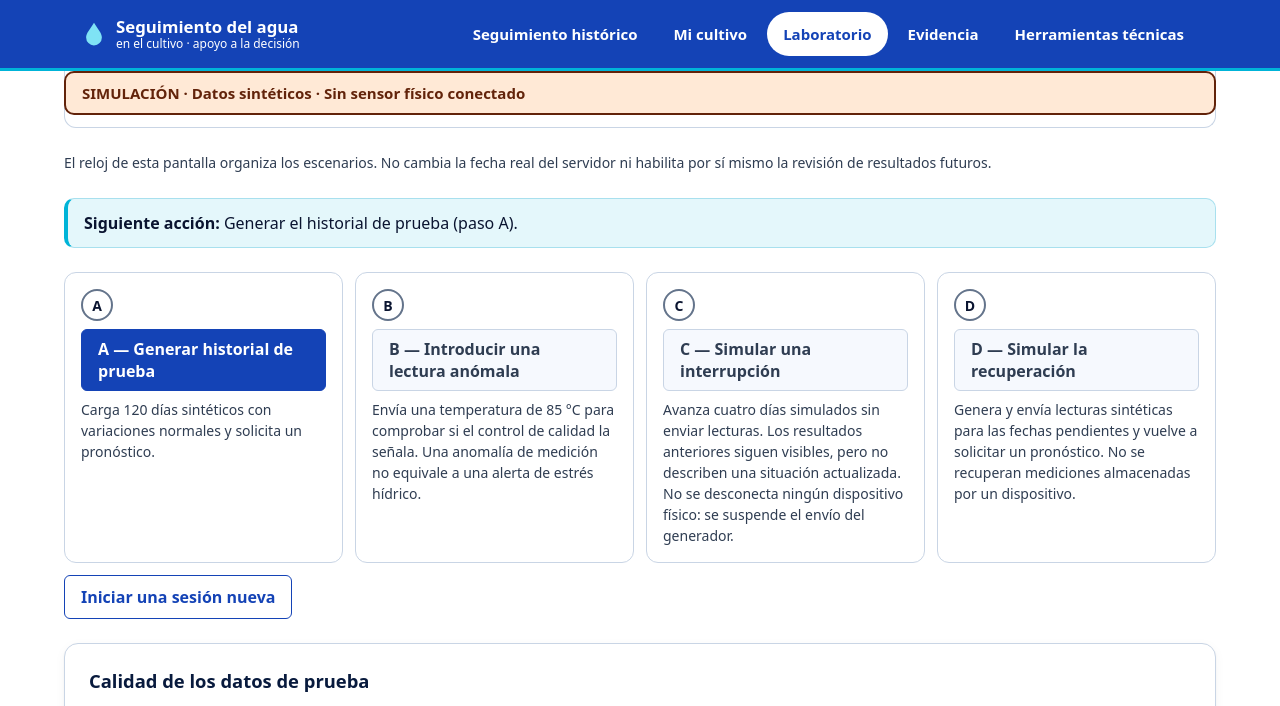
Test: App — navegación por hash (Entrega 2) › offers the Laboratorio sensor in Herramientas with one click when the user comes back by the menu
(page scrolled)
Click the button "A — Generar historial de prueba": click(204, 360) x1=81 y1=329 x2=326 y2=391
(page scrolled)
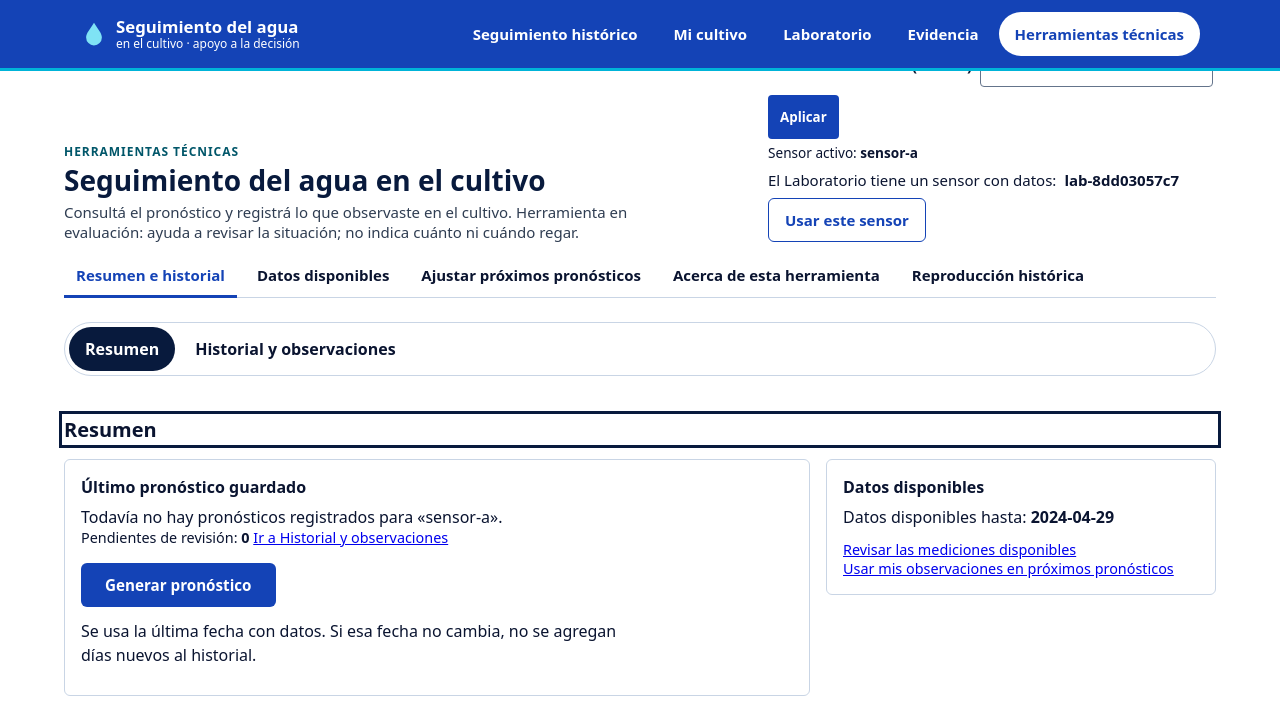
Result: the text "Sensor activo: sensor-a" is shown at x1=768 y1=143 x2=918 y2=162
Click the button "Usar este sensor": click(847, 220) x1=768 y1=198 x2=926 y2=242
(page scrolled)
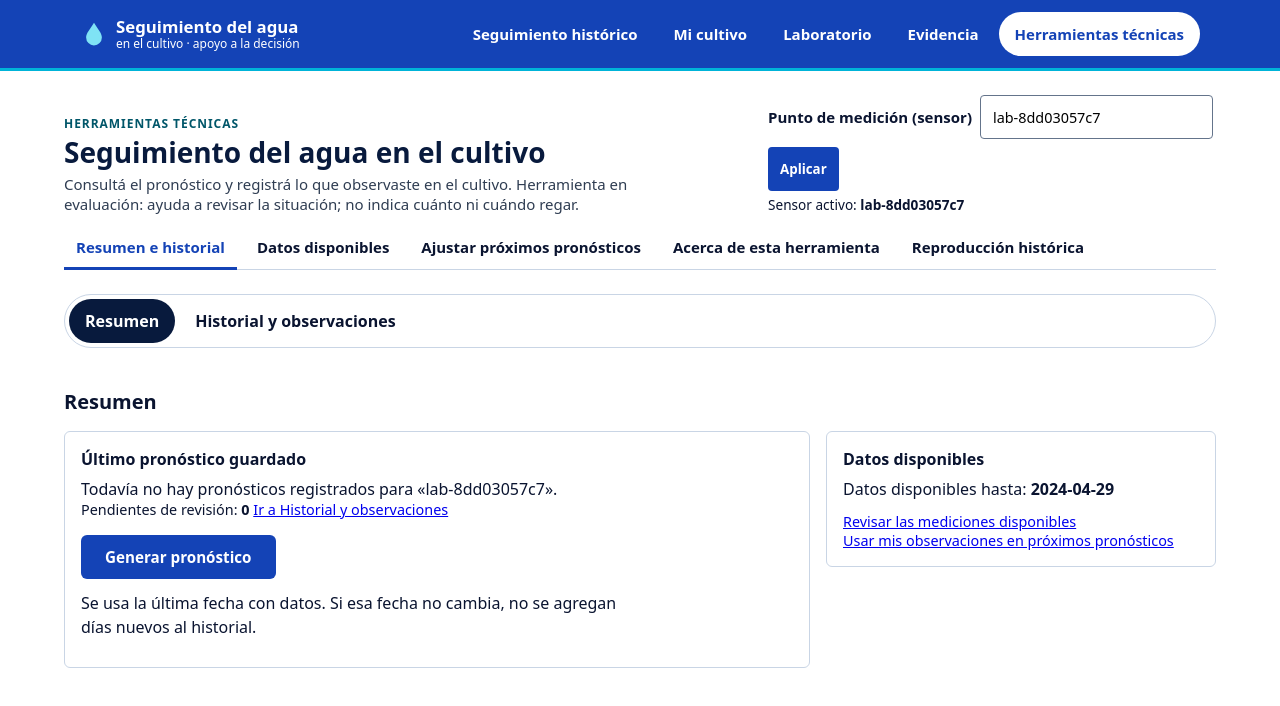
Result: the button "Usar este sensor" is gone
